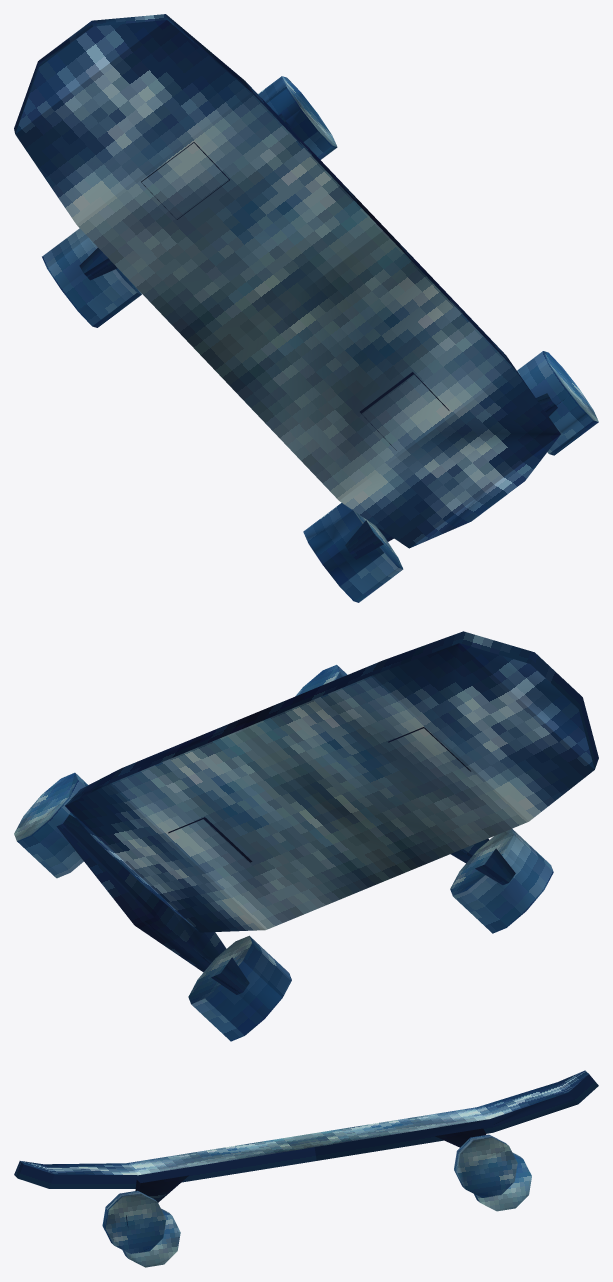
The model's file is ps2_save-icons_skateboardmadnessxtremeedition.glb.
The picture shows the model from 3 angles, top to bottom: view 1: azimuth 30°, elevation 25°; view 2: azimuth 150°, elevation 25°; view 3: azimuth 270°, elevation 25°; orthographic projection. The views are drawn at different scales.
Visible parts, largest first — view 1: MemCard_icon.ico; view 2: MemCard_icon.ico; view 3: MemCard_icon.ico.
Boxes of the visible parts, x1,y1,x2,y2 form: MemCard_icon.ico: (14, 14, 598, 602); MemCard_icon.ico: (14, 631, 598, 1041); MemCard_icon.ico: (14, 1070, 598, 1267).
Size of the model in its own units: 1.72 by 2.08 by 4.91.
Materials: 1 (1 with a texture image).
